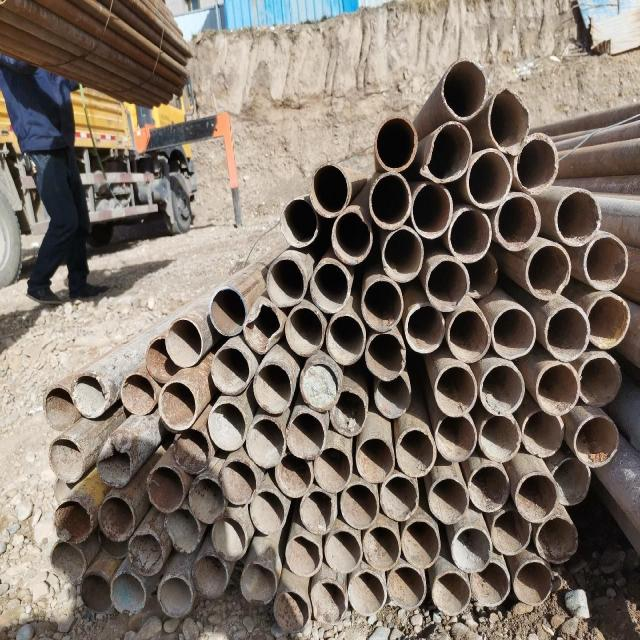pipe: (419, 122, 471, 182), (440, 56, 488, 120), (466, 148, 514, 212), (554, 188, 602, 249), (488, 85, 528, 157), (494, 191, 542, 251), (513, 131, 559, 193), (535, 361, 583, 419), (544, 304, 590, 363), (368, 172, 414, 230), (492, 300, 536, 360), (406, 301, 448, 362), (584, 233, 628, 291), (528, 245, 570, 305), (373, 112, 418, 168), (297, 355, 342, 410), (447, 206, 491, 262), (425, 256, 469, 312), (375, 476, 425, 525), (468, 461, 512, 516), (412, 180, 454, 237), (382, 225, 424, 282), (573, 415, 619, 467), (326, 384, 370, 438), (514, 471, 558, 525), (252, 359, 294, 415), (280, 528, 325, 580), (311, 262, 354, 316), (246, 413, 286, 471), (588, 294, 630, 349), (468, 560, 514, 610), (434, 366, 478, 418), (482, 364, 526, 416), (337, 480, 381, 532), (367, 327, 410, 380), (331, 210, 373, 264), (476, 416, 524, 463), (534, 513, 580, 562), (186, 472, 230, 523), (360, 278, 403, 330), (352, 436, 396, 486), (489, 510, 533, 560), (310, 161, 349, 217), (161, 508, 203, 560), (450, 521, 492, 573), (579, 355, 621, 406), (272, 449, 314, 500), (157, 378, 197, 431), (521, 409, 564, 458), (398, 517, 441, 566), (427, 475, 469, 525), (323, 525, 363, 577), (244, 302, 284, 353), (206, 401, 246, 452), (433, 417, 476, 464), (359, 524, 401, 572), (266, 254, 306, 304), (285, 305, 324, 356), (311, 445, 353, 492), (207, 516, 249, 563), (450, 315, 490, 364), (96, 496, 138, 542), (209, 287, 247, 337), (327, 314, 365, 364), (164, 317, 202, 367), (99, 436, 137, 486), (284, 412, 326, 457), (397, 428, 435, 477), (70, 369, 108, 418), (551, 459, 591, 505), (210, 346, 248, 394), (146, 464, 184, 512), (126, 535, 168, 578), (46, 437, 86, 482), (218, 459, 258, 504), (308, 579, 346, 626), (42, 386, 80, 432), (432, 572, 470, 618), (346, 572, 384, 618), (374, 371, 410, 419), (387, 567, 427, 610), (145, 335, 181, 382), (298, 488, 334, 535), (52, 496, 88, 543), (280, 198, 315, 246), (514, 560, 552, 603), (273, 588, 310, 632), (173, 428, 209, 473), (250, 487, 284, 534), (190, 554, 226, 598), (238, 562, 276, 603), (120, 373, 156, 416), (110, 572, 146, 615), (156, 576, 192, 618), (468, 250, 498, 299), (50, 541, 85, 582), (80, 571, 110, 613)
